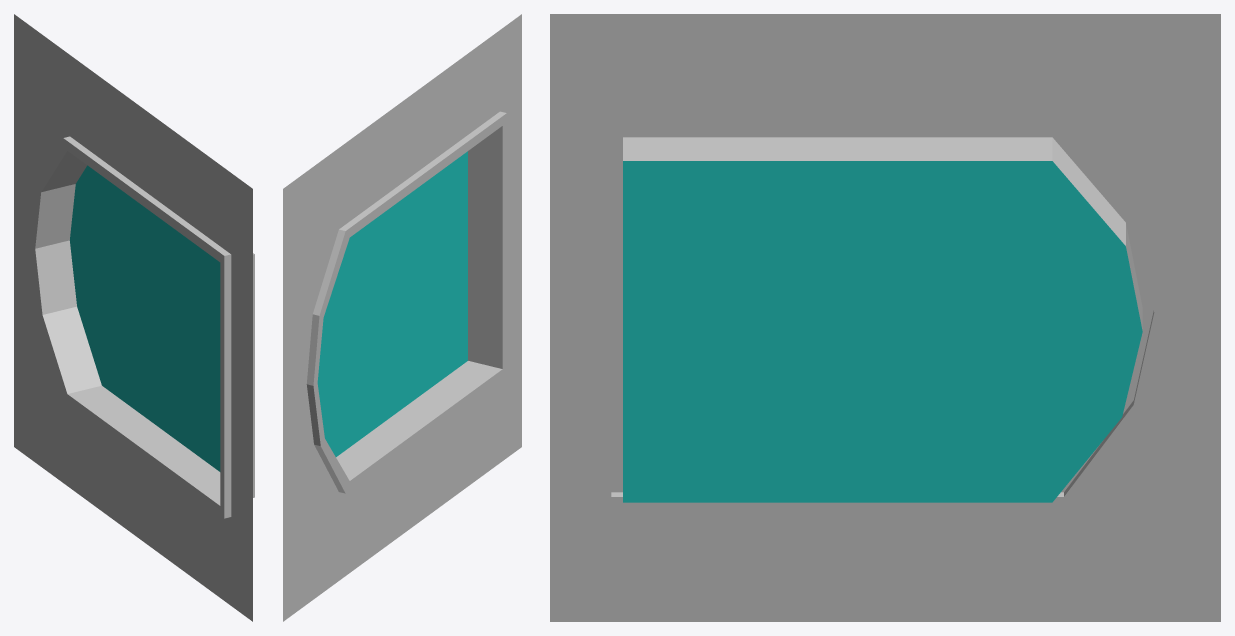
Rendered from SingleWIndow05.fbx.
The picture shows the model from 3 angles, left to right: view 1: azimuth 30°, elevation 25°; view 2: azimuth 150°, elevation 25°; view 3: azimuth 270°, elevation 25°; orthographic projection. The views are drawn at different scales.
Parts seen in each view (by area): view 1: Plane.001; view 2: Plane.001; view 3: Plane.001.
Boxes of the visible parts, bbox=[...] form: Plane.001: bbox=[14, 14, 254, 621]; Plane.001: bbox=[283, 14, 521, 621]; Plane.001: bbox=[550, 14, 1220, 621].
Size of the model in its own units: 8.35 by 100 by 100.
